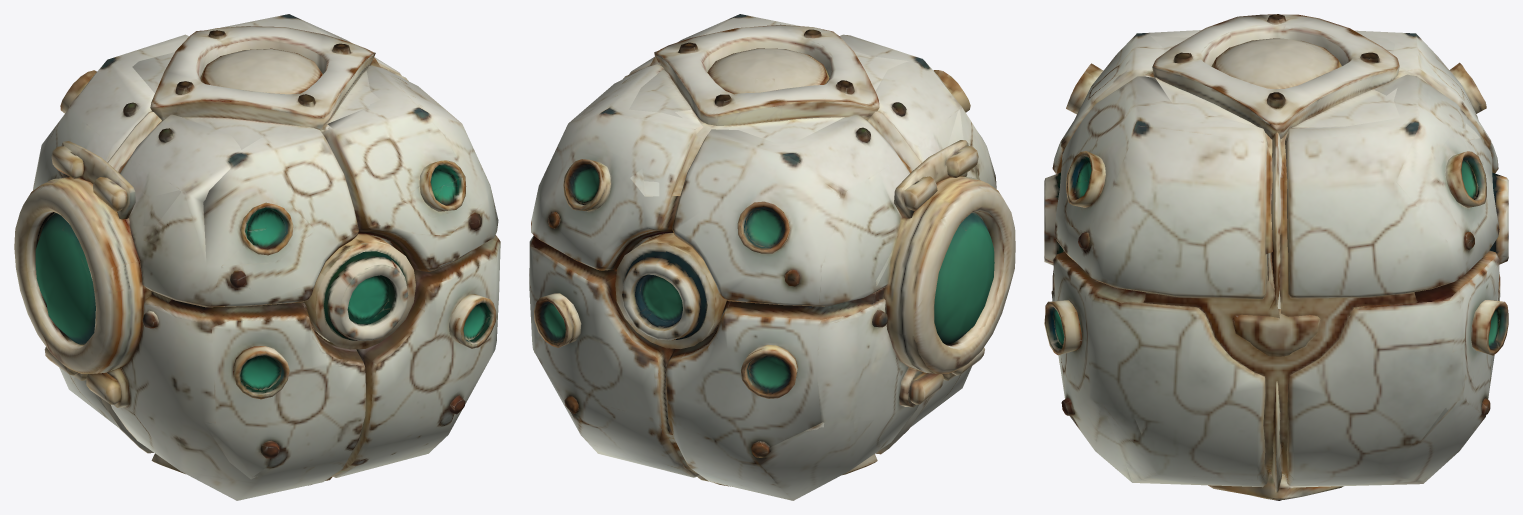
File: organ-capacitor.glb
3 views of the same model, side by side, from view 1: azimuth 30°, elevation 25°; view 2: azimuth 150°, elevation 25°; view 3: azimuth 270°, elevation 25° (orthographic). The views are drawn at different scales.
Visible parts, largest first — view 1: Mesh_0; view 2: Mesh_0; view 3: Mesh_0.
Part boxes in pixels (x1,y1,x2,y2): Mesh_0: [14, 14, 500, 500]; Mesh_0: [529, 14, 1015, 500]; Mesh_0: [1044, 14, 1508, 500].
Size of the model in its own units: 1 by 0.9746 by 1.
Materials: 1 (1 with a texture image).
